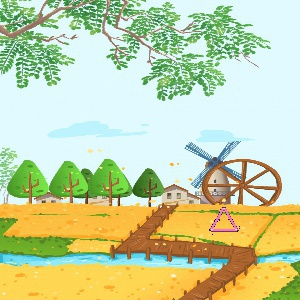triangle: (206, 205, 242, 234)
